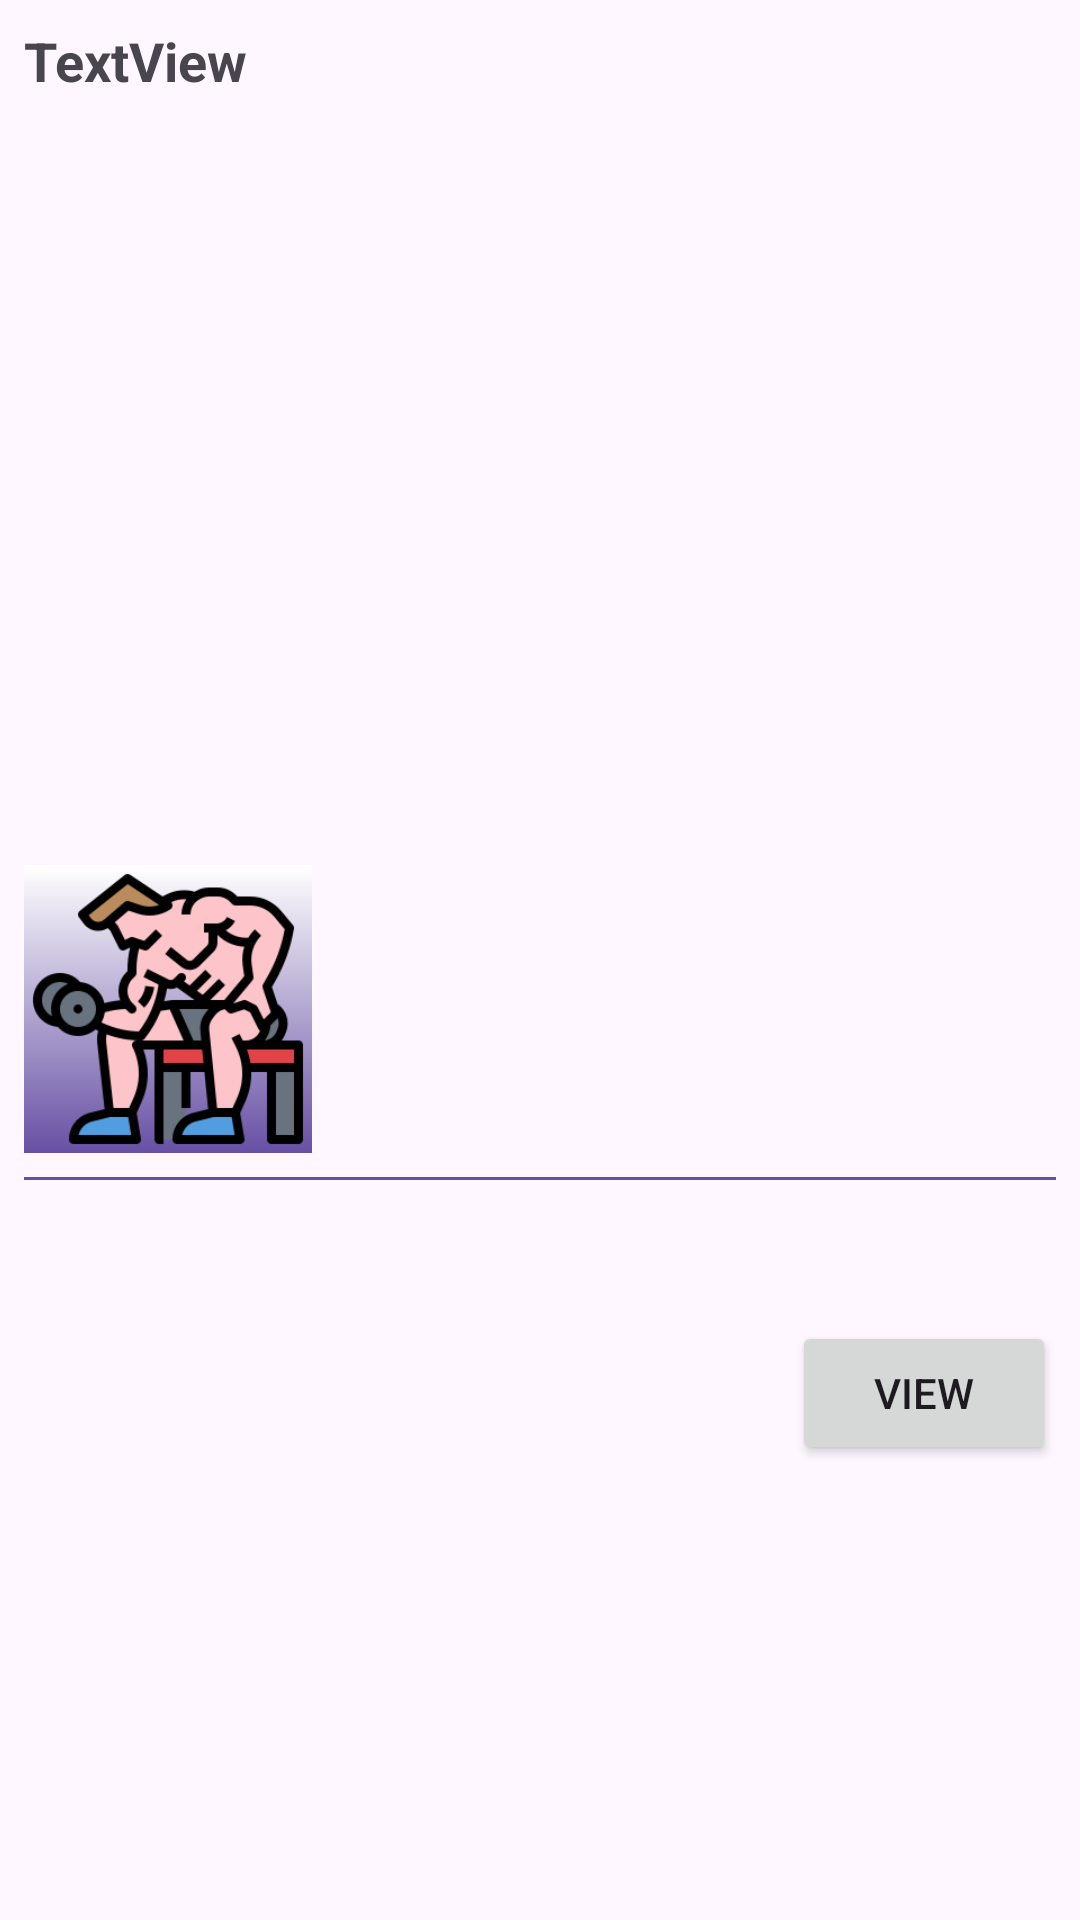

Where to tap for icons on this 1080 x 1920 app screen, as point (x, y):
workout: point (168, 1013)
